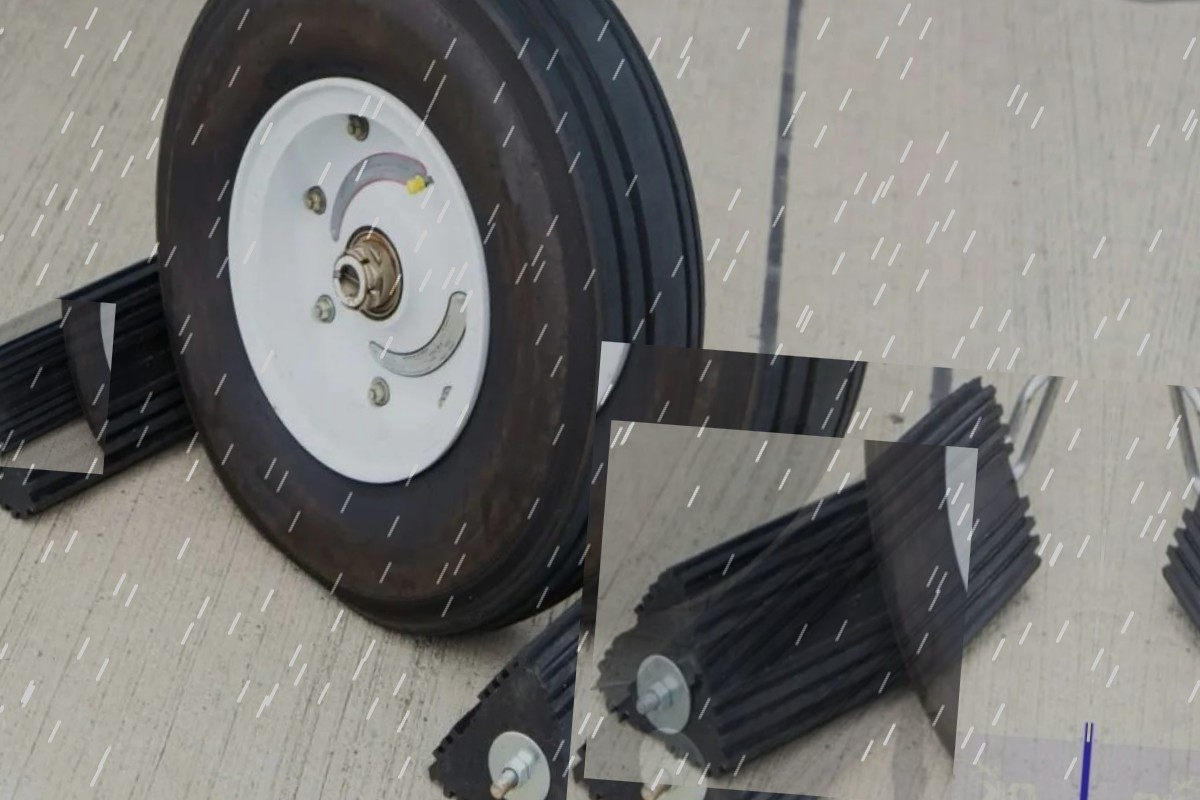chock: (562, 341, 1114, 800), (419, 384, 916, 800), (584, 420, 978, 800), (0, 202, 257, 545), (0, 290, 116, 474)
wheel: (125, 0, 729, 649)
